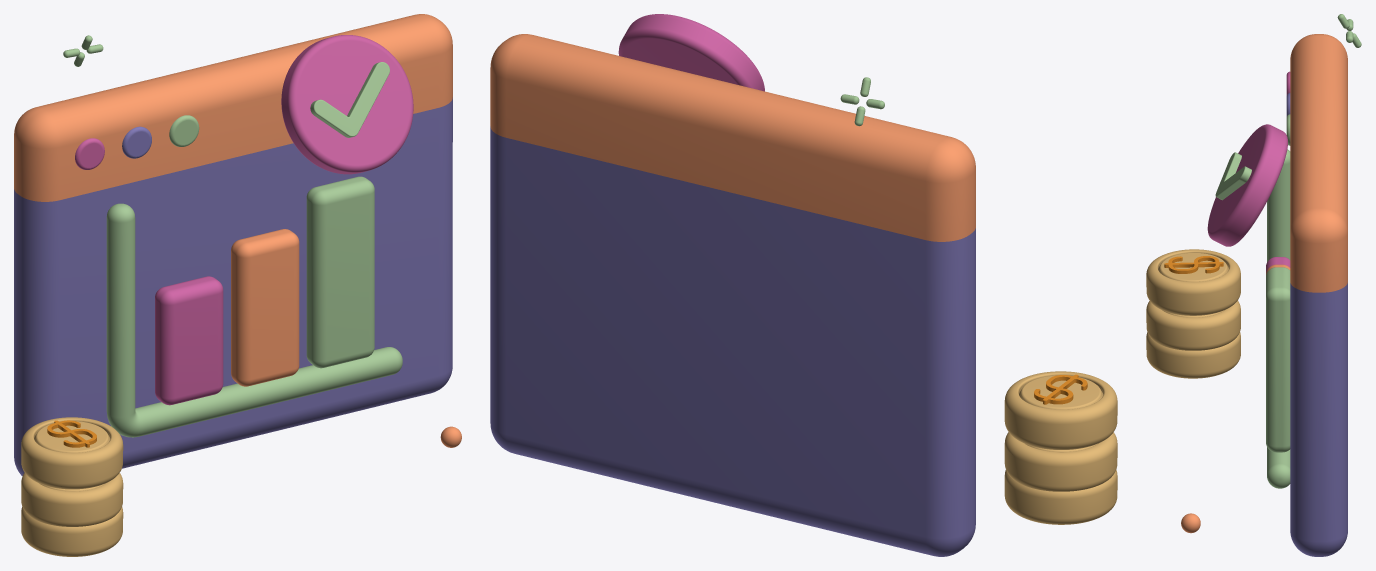
The model's file is sales-analytics-3d-animated-icon-815671453725.glb.
3 views of the same model, side by side, from view 1: azimuth 30°, elevation 25°; view 2: azimuth 150°, elevation 25°; view 3: azimuth 270°, elevation 25° (orthographic). The views are drawn at different scales.
Visible parts, largest first — view 1: Cube.003, Cube.002, Plane, Cylinder.006, Cube.004, Cube.001, Cube, Cylinder.003, Cylinder.002, Cylinder.001, Cylinder, Curve.003 (+1 smaller); view 2: Cube.003, Cube.002, Cylinder.003, Cylinder.006, Cylinder.002, Cylinder.001, Curve.004; view 3: Cube.003, Cube.002, Cylinder.006, Cylinder.003, Cube.004, Cylinder.002, Plane, Cylinder.001, Curve.003, Curve.004, Cylinder, Cylinder.020 (+1 smaller).
Boxes of the visible parts, <box> form: Cube.003: <box>14,97,452,475</box>; Cube.002: <box>14,14,452,201</box>; Plane: <box>106,203,402,437</box>; Cylinder.006: <box>281,35,413,174</box>; Cube.004: <box>306,176,374,368</box>; Cube.001: <box>231,229,299,386</box>; Cube: <box>155,276,223,405</box>; Cylinder.003: <box>21,417,123,489</box>; Cylinder.002: <box>21,472,123,526</box>; Cylinder.001: <box>21,506,123,556</box>; Cylinder: <box>75,115,199,169</box>; Curve.003: <box>310,62,389,137</box>; Cube.003: <box>490,126,975,556</box>; Cube.002: <box>490,34,975,241</box>; Cylinder.003: <box>1004,371,1117,449</box>; Cylinder.006: <box>618,14,764,91</box>; Cylinder.002: <box>1004,432,1117,491</box>; Cylinder.001: <box>1004,470,1117,524</box>; Curve.004: <box>1034,374,1087,404</box>; Cube.003: <box>1290,283,1347,556</box>; Cube.002: <box>1290,34,1347,292</box>; Cylinder.006: <box>1207,124,1287,246</box>; Cylinder.003: <box>1146,249,1240,315</box>; Cube.004: <box>1266,267,1290,452</box>; Cylinder.002: <box>1146,300,1240,350</box>; Plane: <box>1267,149,1290,488</box>; Cylinder.001: <box>1146,332,1240,378</box>; Curve.003: <box>1215,152,1251,200</box>; Curve.004: <box>1164,256,1223,273</box>; Cylinder: <box>1286,71,1290,145</box>; Cylinder.020: <box>1337,14,1361,47</box>.
Size of the model in its own units: 1.64 by 1.36 by 0.6744.
